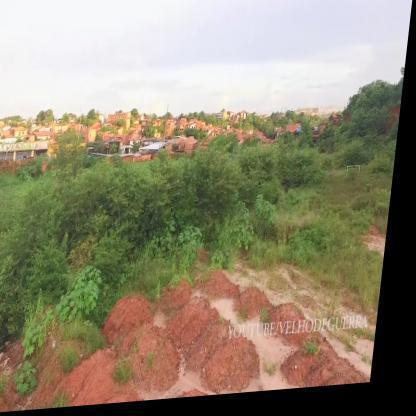agua: (222, 300, 246, 331)
